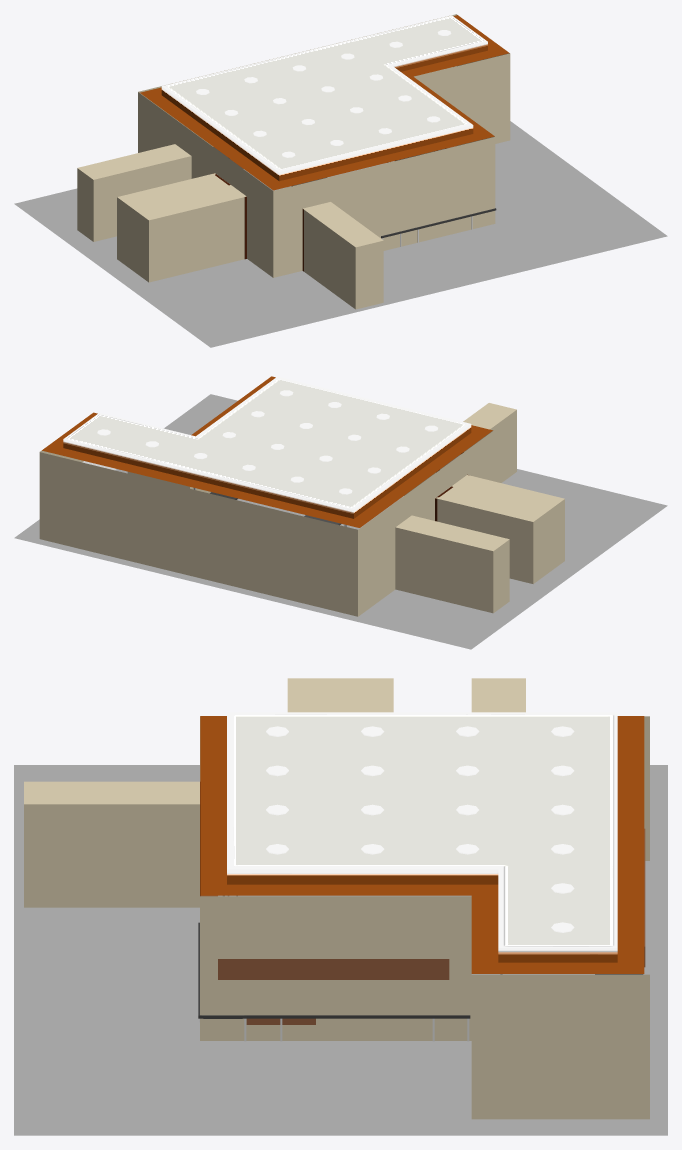
Rendered from Map V2.fbx.
3 renders of one model, top to bottom at view 1: azimuth 30°, elevation 25°; view 2: azimuth 150°, elevation 25°; view 3: azimuth 270°, elevation 25°, orthographic. The views are drawn at different scales.
Parts seen in each view (by area): view 1: Tembok, Lantai, Atap; view 2: Tembok, Atap, Lantai; view 3: Atap, Tembok, Lantai, Rak Solid, Meja 2.
Boxes of the visible parts, <box> form: Tembok: <box>77,14,510,309</box>; Lantai: <box>14,121,667,347</box>; Atap: <box>140,15,509,190</box>; Tembok: <box>39,403,564,616</box>; Atap: <box>42,376,492,527</box>; Lantai: <box>14,394,667,649</box>; Atap: <box>200,712,644,973</box>; Tembok: <box>24,678,649,1119</box>; Lantai: <box>14,765,667,1135</box>; Rak Solid: <box>218,959,449,979</box>; Meja 2: <box>198,922,470,1041</box>.
Size of the model in its own units: 3785 by 768 by 2821.
Materials: 17 (16 with a texture image).
